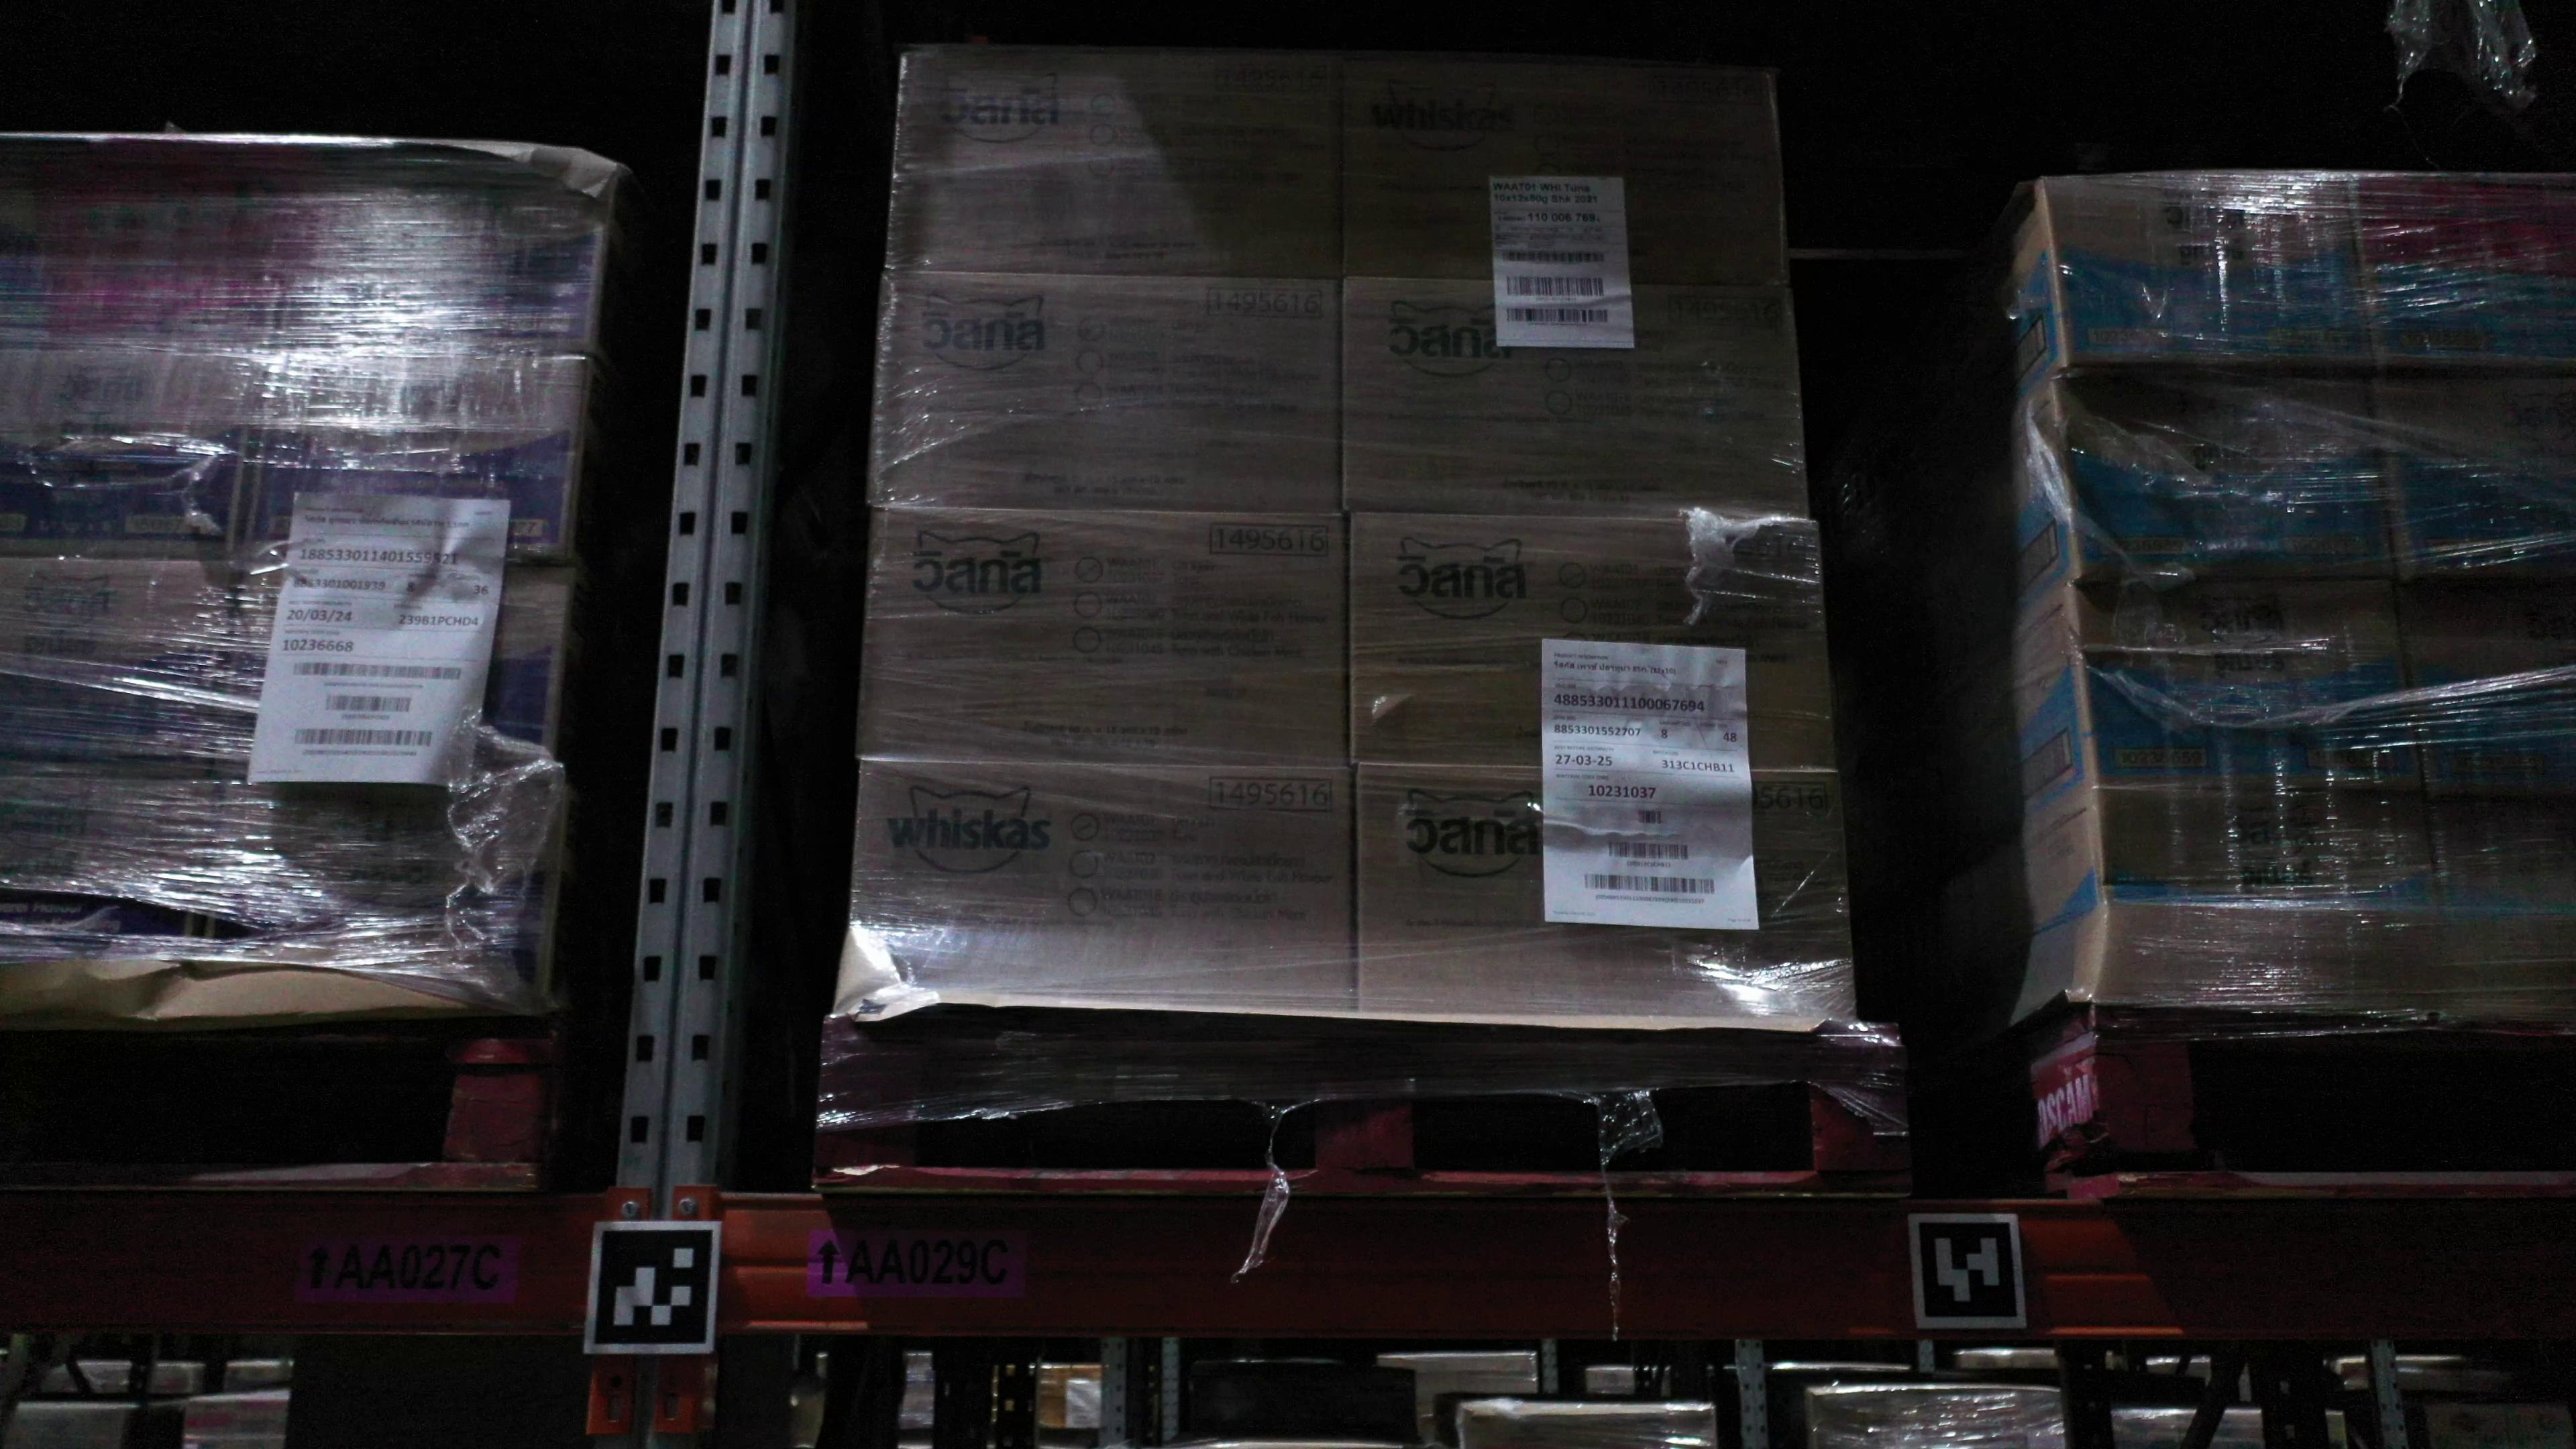-: (1345, 511, 1833, 773), (862, 506, 1346, 770), (853, 761, 1357, 1014), (1355, 768, 1854, 1023), (872, 271, 1341, 511), (1341, 278, 1806, 520), (890, 42, 1341, 285), (1341, 57, 1789, 285), (189, 764, 563, 998), (2056, 372, 2404, 593), (214, 563, 566, 778), (244, 345, 586, 566), (2074, 584, 2426, 798), (271, 138, 612, 356), (2036, 177, 2378, 373), (5, 136, 294, 349), (0, 345, 269, 563), (0, 550, 248, 757), (0, 754, 221, 968), (2348, 177, 2576, 372), (2102, 794, 2442, 922), (2378, 375, 2576, 586), (2399, 584, 2576, 796), (2426, 798, 2576, 922)
